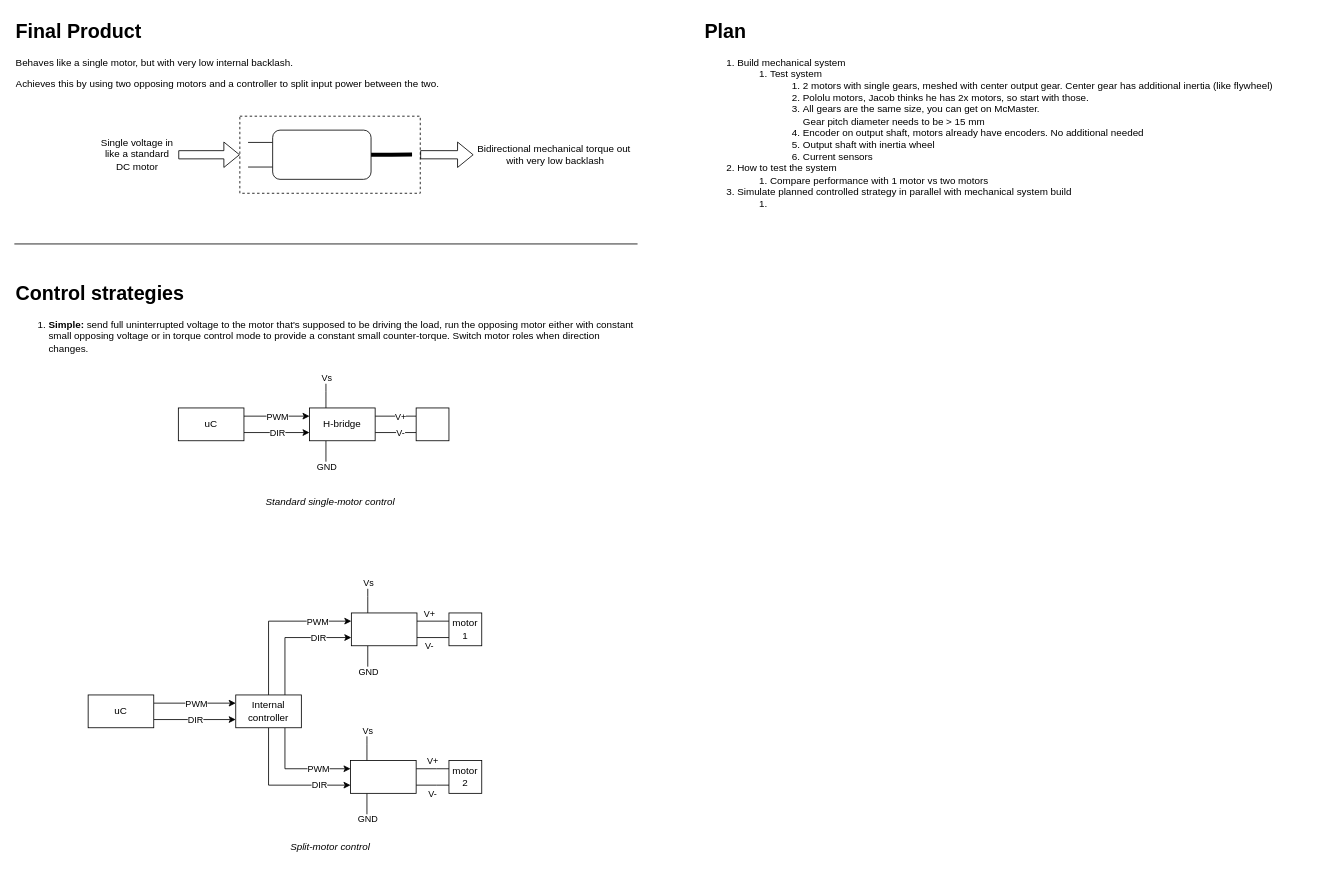
Some shapes in this 1341 by 872 pixel diagram are drawn without their labels. Here are the shapes that lost their labels. From the top down, the box of each, then its label:
(415, 407, 449, 441): motor
(351, 612, 417, 646): H-bridge 1
(350, 760, 416, 793): H-bridge 2
